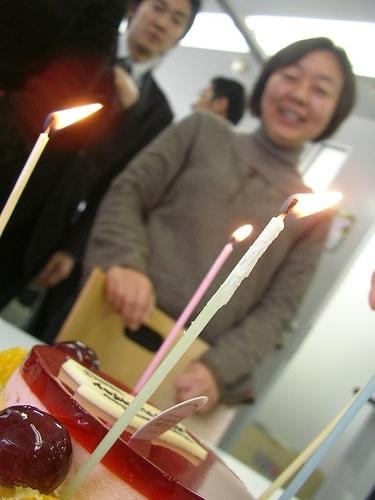cherry: (0, 404, 73, 496), (49, 340, 100, 370)
